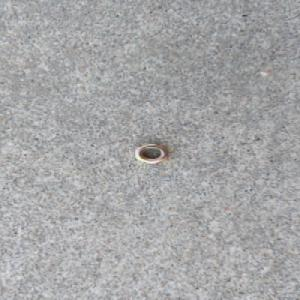Nut: (133, 143, 170, 164)
